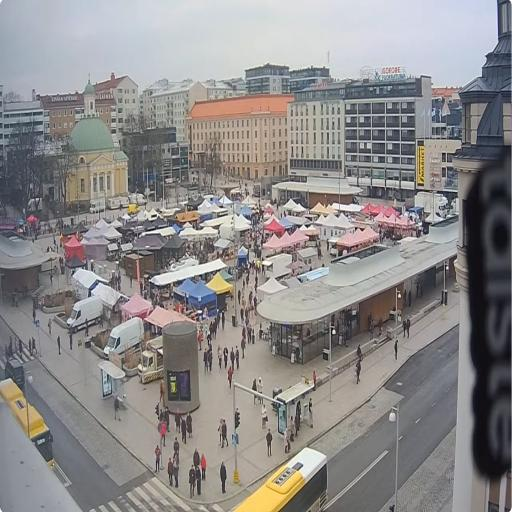Bus: (235, 448, 328, 511), (0, 379, 54, 470)
Delivery: (104, 318, 144, 358), (67, 297, 102, 332), (138, 336, 163, 383), (5, 358, 25, 387)
